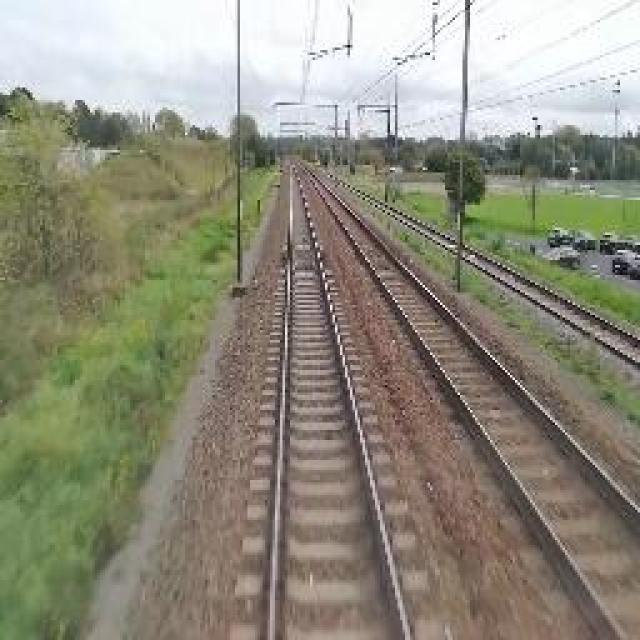rail: (239, 159, 473, 639)
